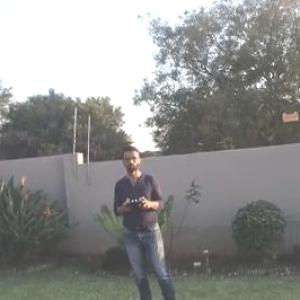follow: (108, 142, 191, 299)
